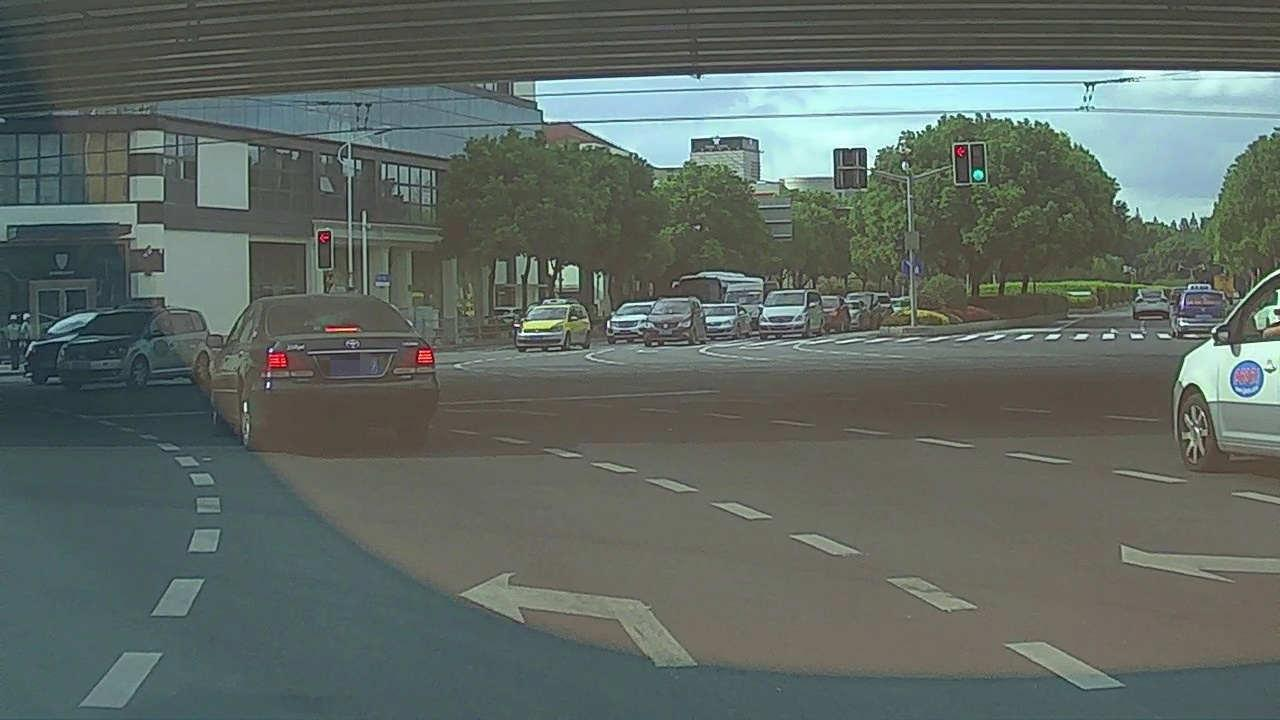traffic_light: (970, 142, 986, 186), (954, 143, 968, 183), (319, 231, 331, 267)
